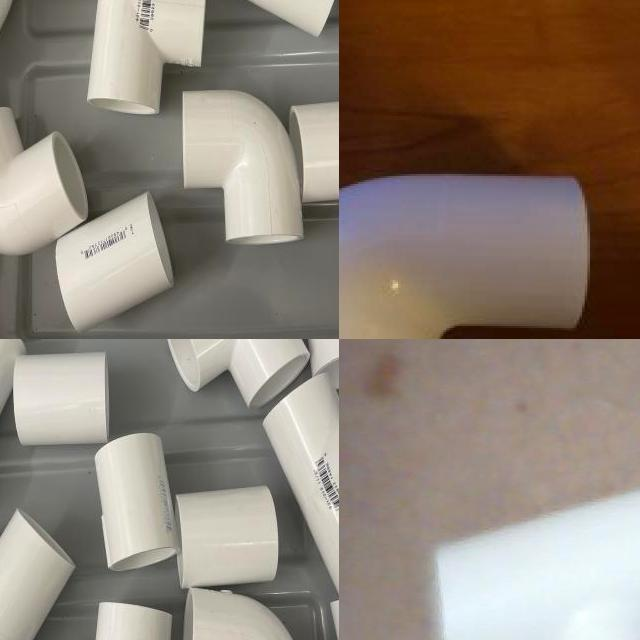L Joint: (339, 175, 592, 339), (181, 91, 304, 249), (0, 107, 91, 258), (166, 339, 310, 410), (184, 588, 293, 640)
T Joint: (432, 488, 640, 640), (262, 373, 339, 594), (87, 0, 206, 117), (0, 509, 76, 640)
